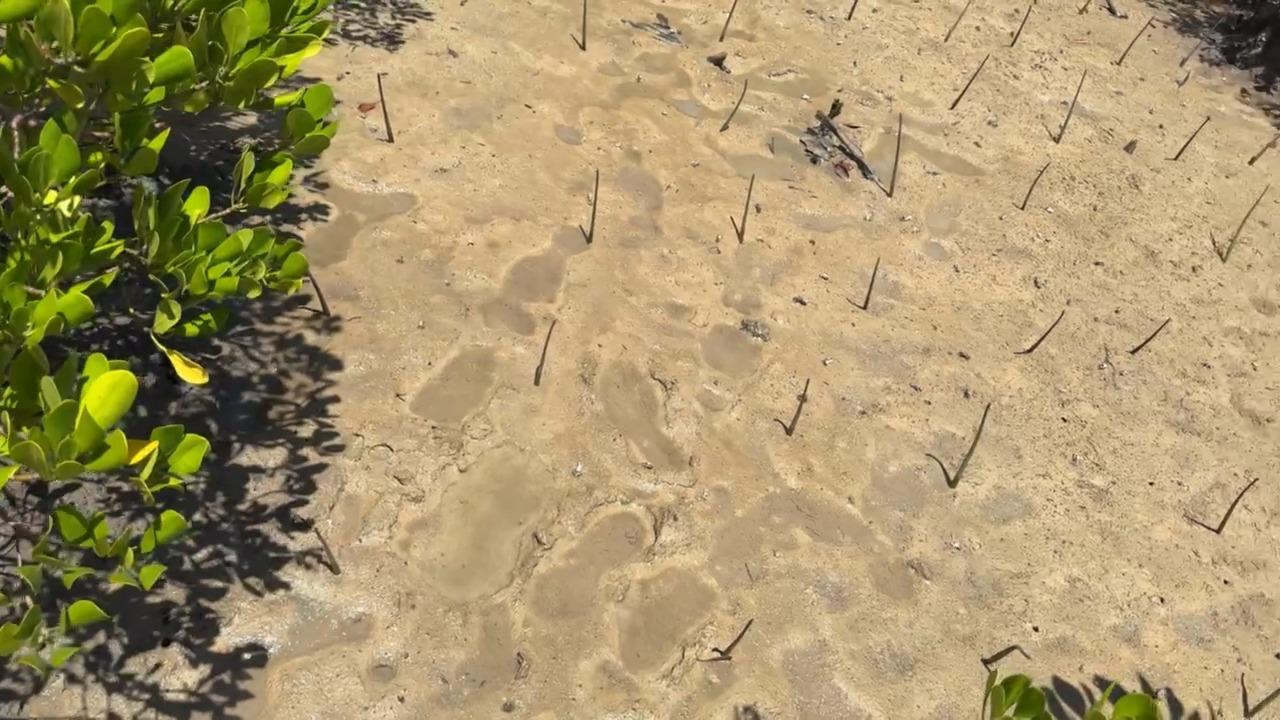Tree: (951, 404, 991, 488), (1225, 187, 1268, 260), (1215, 476, 1259, 534), (950, 53, 991, 110), (1057, 69, 1087, 143), (1182, 15, 1224, 67), (1118, 18, 1154, 64), (1028, 310, 1064, 352), (1174, 117, 1209, 160), (534, 322, 557, 386), (720, 81, 747, 133), (1023, 163, 1051, 211), (1132, 318, 1171, 352), (721, 619, 755, 658), (787, 380, 809, 435), (315, 529, 340, 575), (945, 0, 971, 44), (739, 175, 755, 243), (1245, 689, 1280, 720), (377, 70, 392, 141), (890, 113, 902, 198), (863, 257, 882, 310), (979, 646, 1031, 665), (1010, 3, 1032, 47), (308, 269, 328, 315), (1247, 138, 1278, 164), (590, 169, 600, 243), (720, 0, 736, 42), (581, 0, 587, 49), (1077, 0, 1092, 16), (849, 0, 857, 20)
